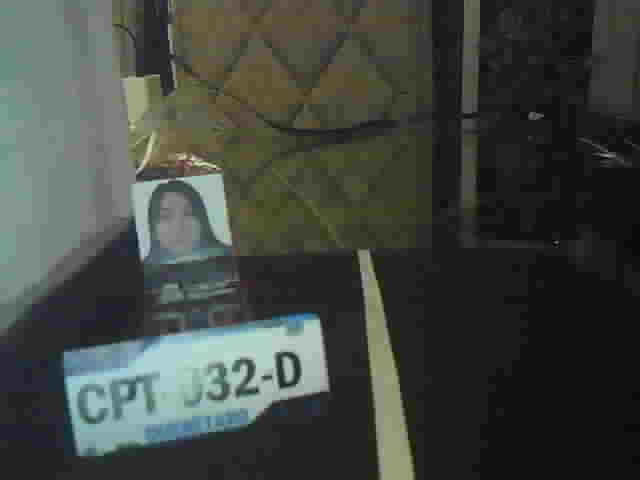PLACA: (57, 307, 334, 461)
ROSTRO: (141, 181, 232, 266)
